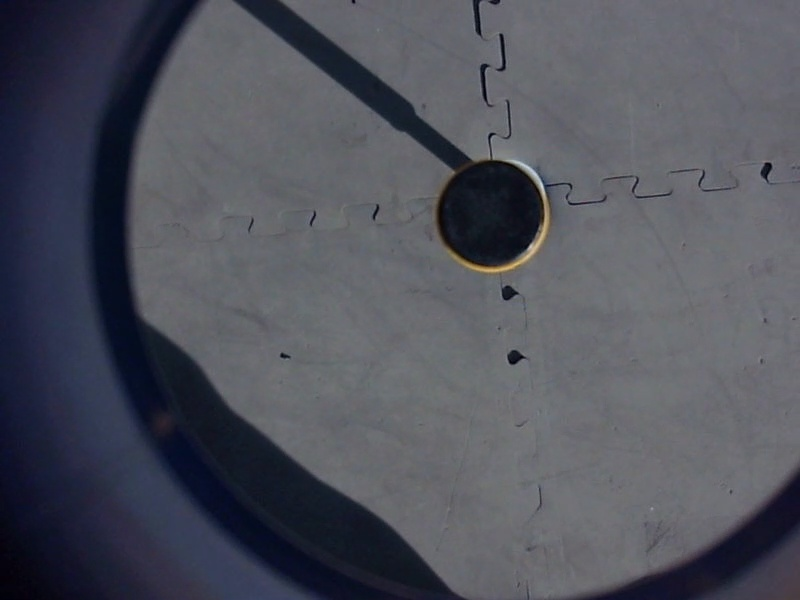tip: (432, 156, 554, 277)
